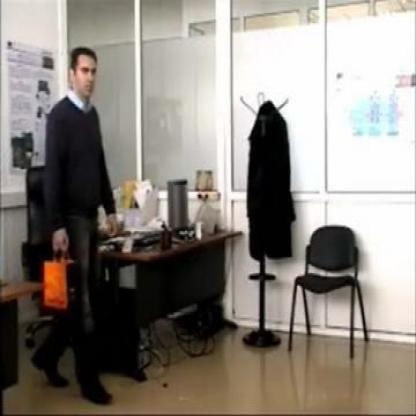other: (38, 258, 66, 307)
